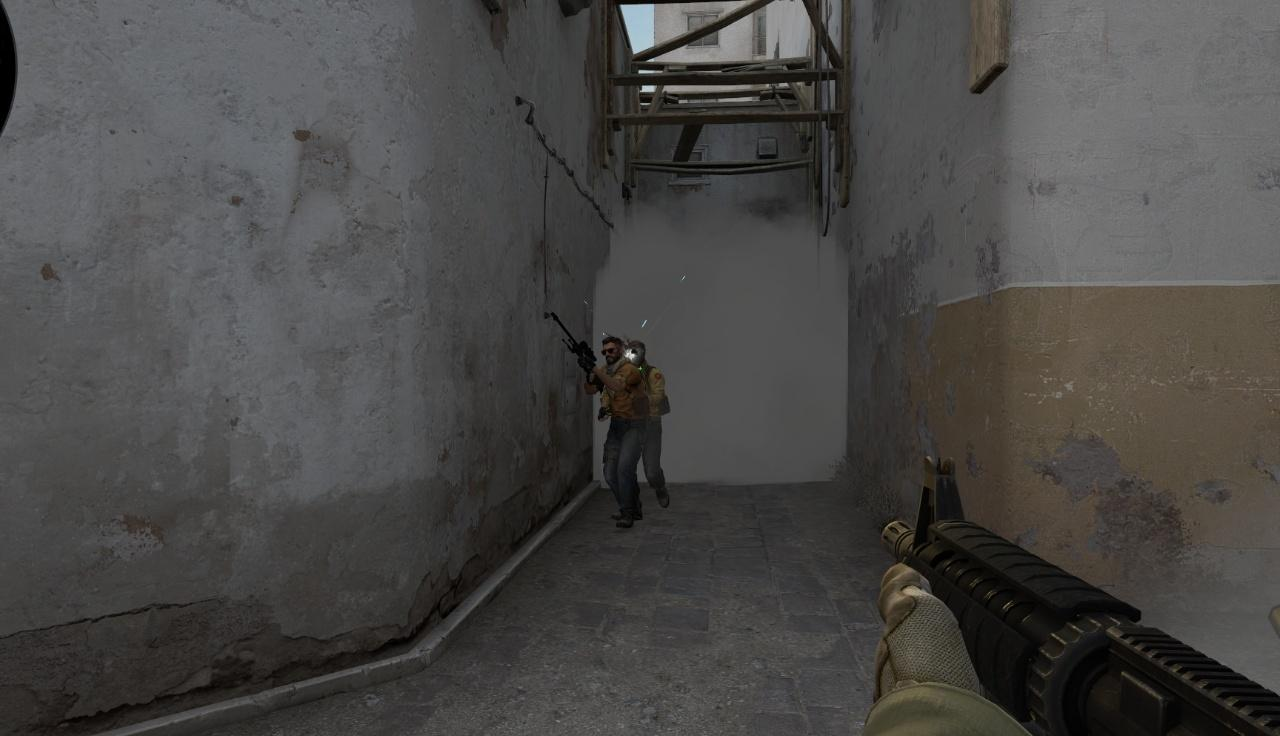rifle: (878, 452, 1280, 736)
tt: (592, 339, 641, 527), (642, 367, 667, 507)
tthead: (601, 338, 624, 366)
